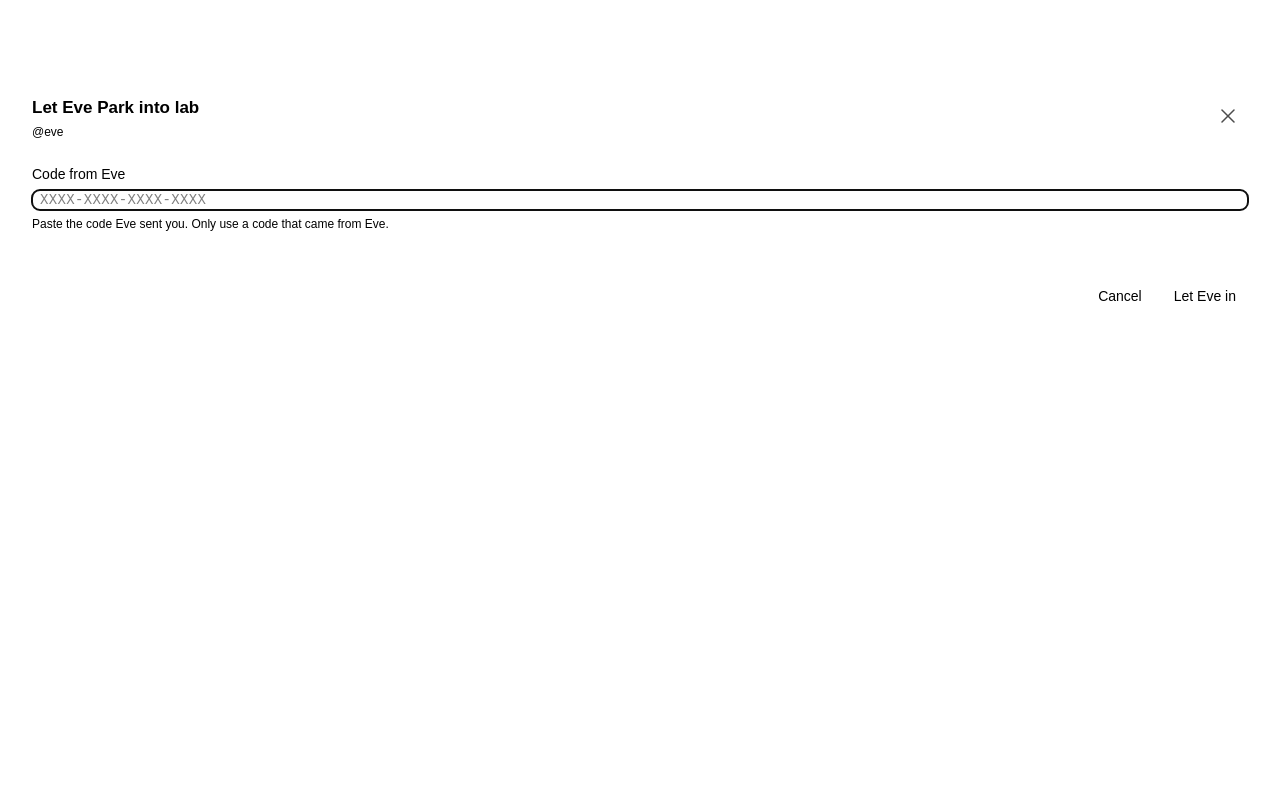
Test case: LetInDialog › shows any other refusal in the broker’s own sentence
Type "7QK2M9XA3JTPWZ4D" into the field labelled "Code from Eve" at point(640, 200), box [32, 190, 1248, 210]
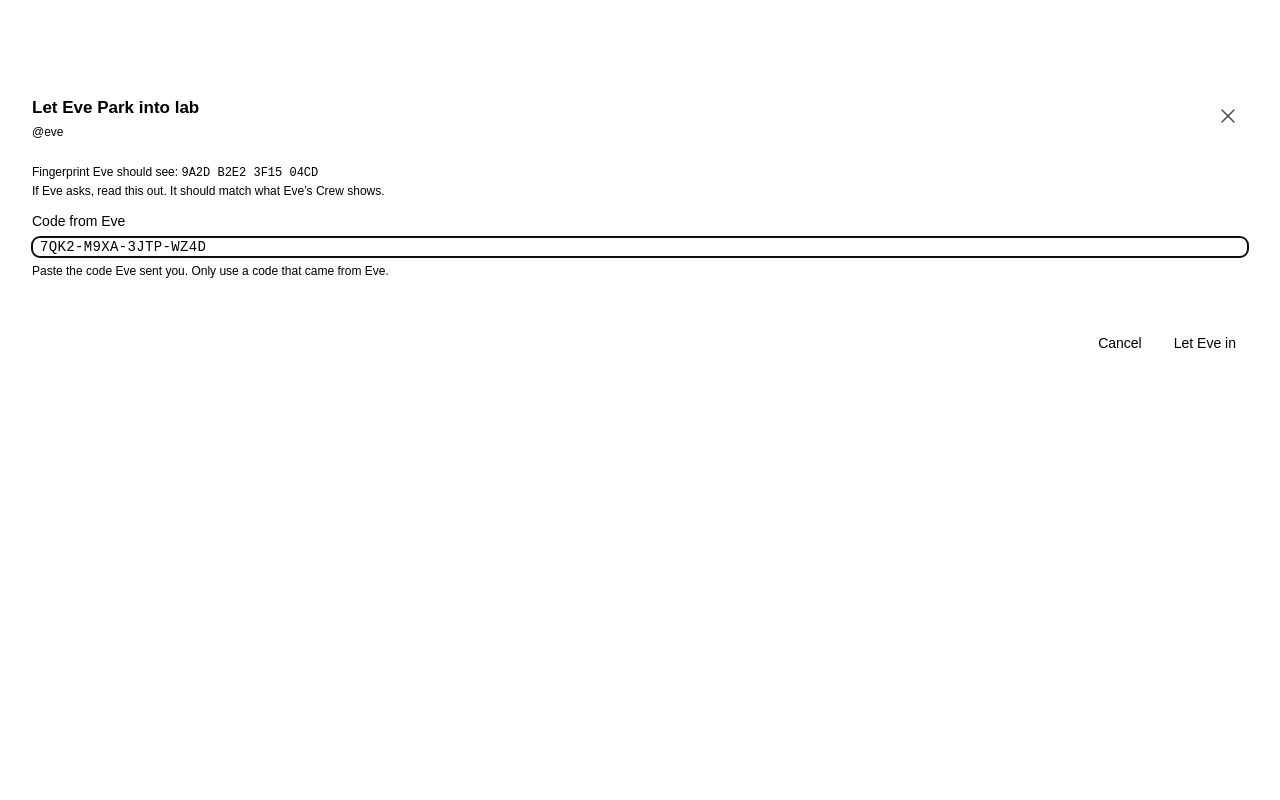
Click the button "Let Eve in" at point(1205, 343), box [1162, 333, 1248, 353]
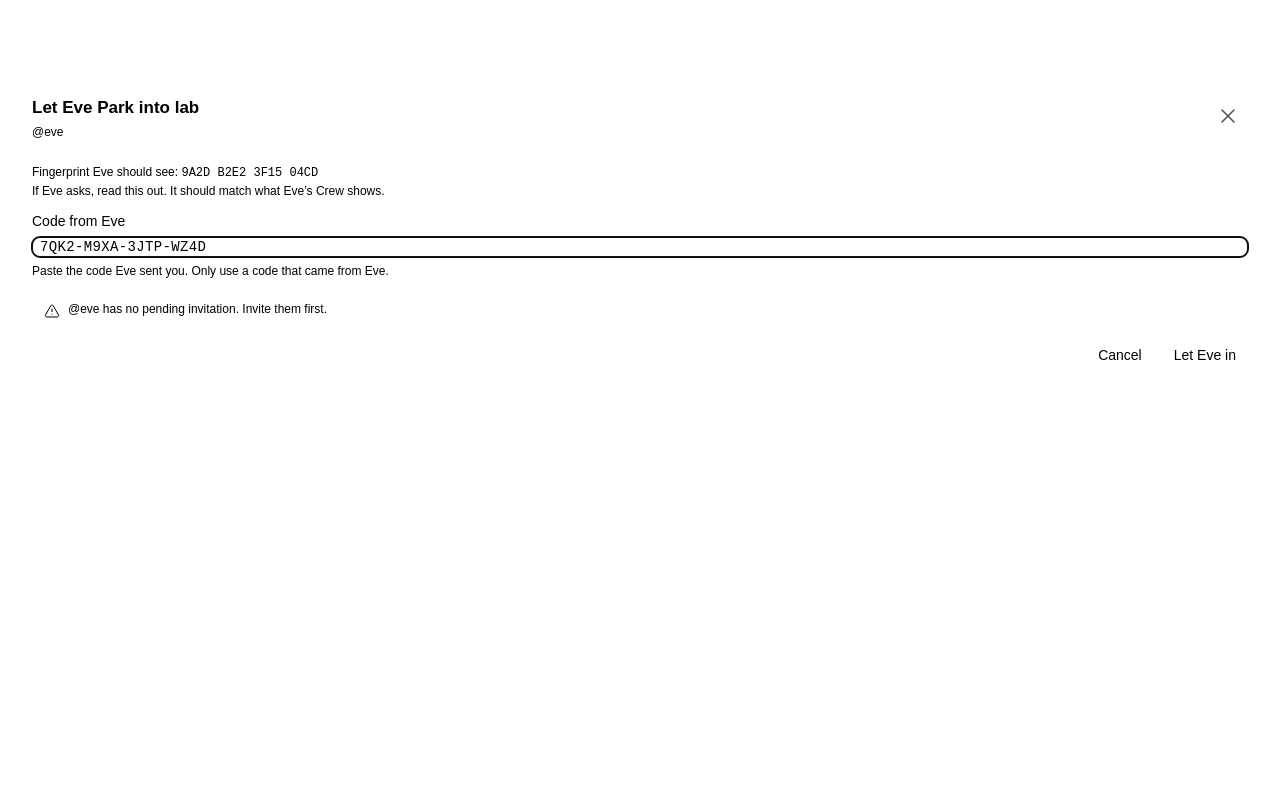
Check: the text "@eve has no pending invitation. Invite them first." is shown, box [68, 302, 327, 316]
